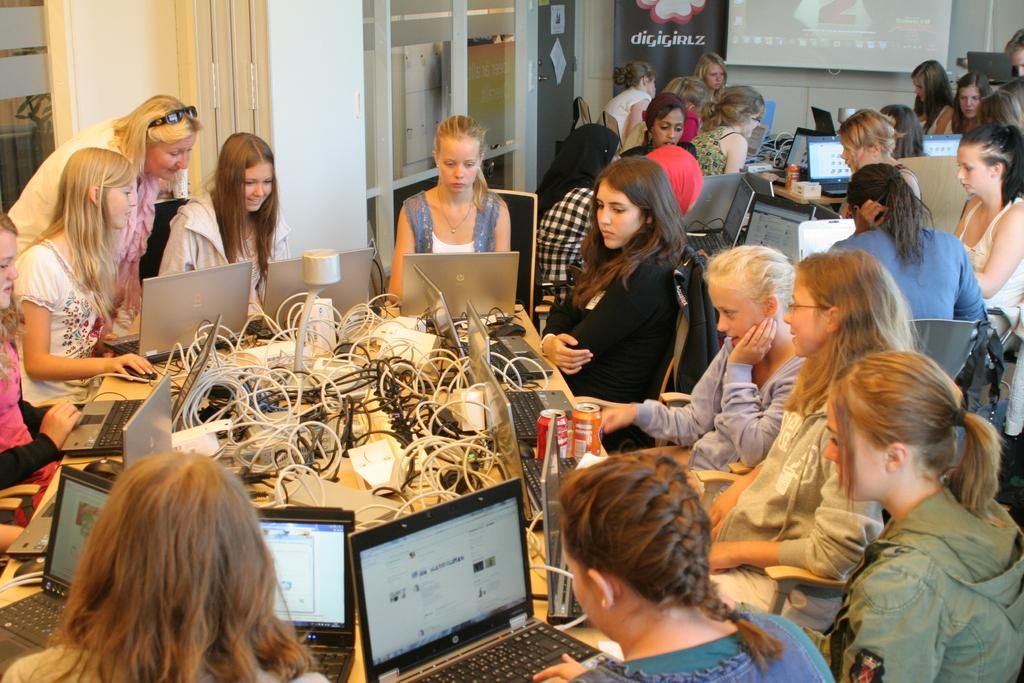Laptop: (321, 495, 559, 683), (3, 372, 173, 564), (0, 465, 118, 681), (58, 311, 221, 457), (477, 358, 586, 529), (254, 507, 356, 682), (414, 264, 553, 383), (100, 261, 254, 365), (467, 300, 574, 447), (244, 246, 375, 339), (539, 414, 594, 629), (404, 252, 519, 327), (684, 176, 756, 257), (742, 192, 814, 263), (759, 127, 834, 187), (680, 172, 748, 232), (806, 136, 852, 197), (797, 221, 858, 263), (965, 52, 1014, 82), (922, 135, 960, 158), (812, 104, 842, 133), (809, 200, 843, 218)
